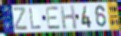4: (81, 6, 93, 30)
6: (95, 5, 108, 28)
E: (45, 6, 62, 30)
H: (59, 5, 78, 31)
L: (28, 8, 43, 30)
Z: (13, 6, 29, 31)
